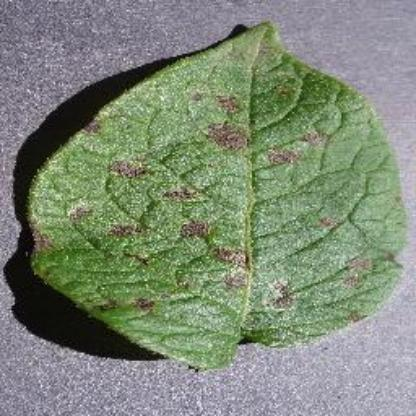Early-Blight: (24, 20, 406, 370)
